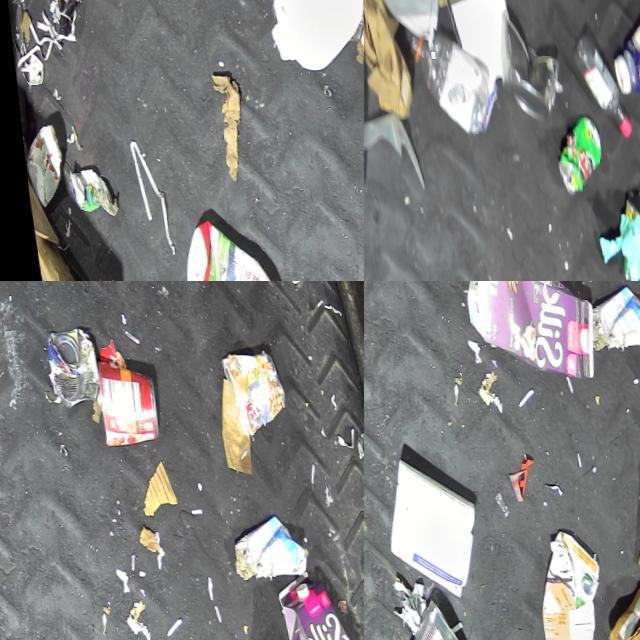can: (491, 16, 561, 122), (89, 358, 158, 448), (215, 350, 286, 436), (537, 116, 599, 200), (38, 325, 100, 409), (379, 596, 454, 640), (345, 2, 364, 98)
milk_jug: (250, 0, 364, 73)
non_white_jug: (453, 281, 593, 381), (513, 526, 598, 640), (265, 565, 364, 640)
plastic_bottle: (402, 23, 496, 132)
